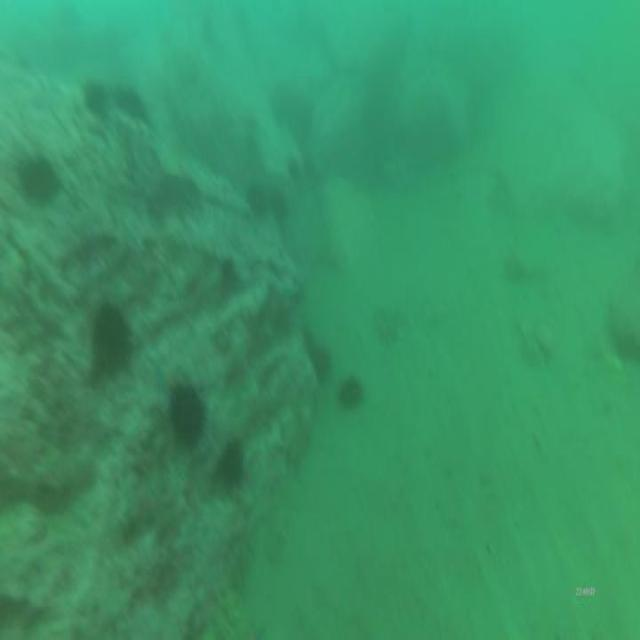echinus: (89, 299, 136, 379), (12, 152, 64, 212), (169, 379, 206, 454), (111, 84, 153, 128), (214, 438, 247, 493), (79, 73, 111, 123), (242, 177, 271, 226), (335, 372, 365, 416), (268, 79, 294, 128), (310, 343, 334, 385), (267, 182, 289, 224), (298, 321, 316, 365), (300, 152, 316, 178), (287, 155, 300, 182)
